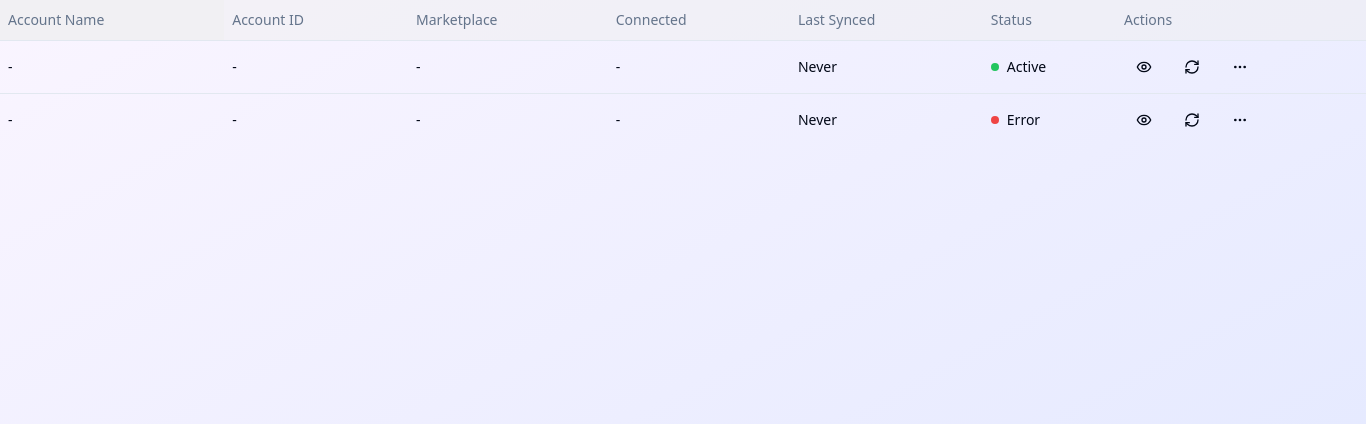
Test case: AccountTypeTable › Status Indicators › should show tooltips for status indicators
Hover over the element with test id "status-active" at x=995, y=66, box [991, 62, 999, 70]
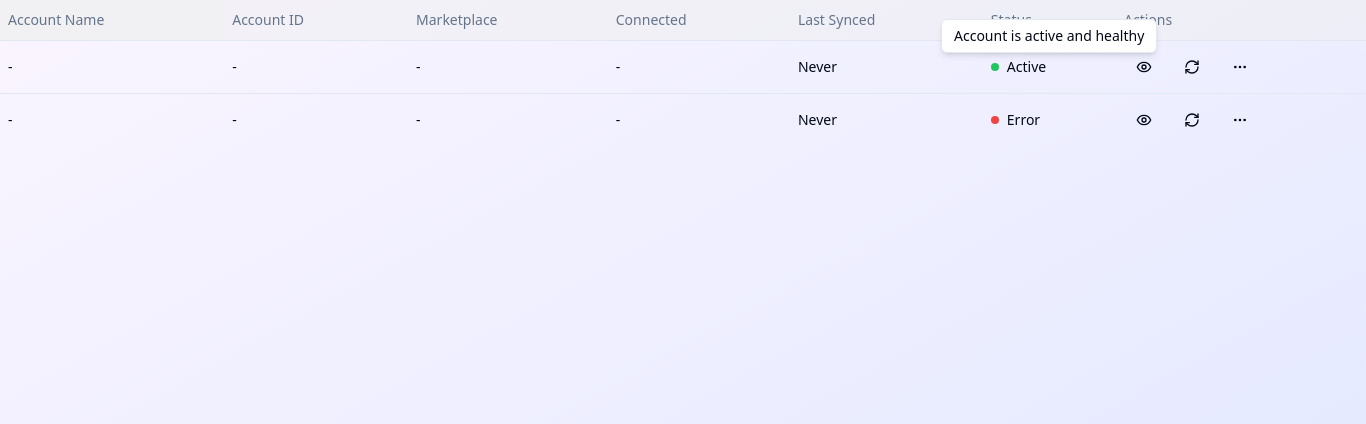
Expected: the tooltip reads "Account is active and healthy", [954, 26, 1144, 45]
